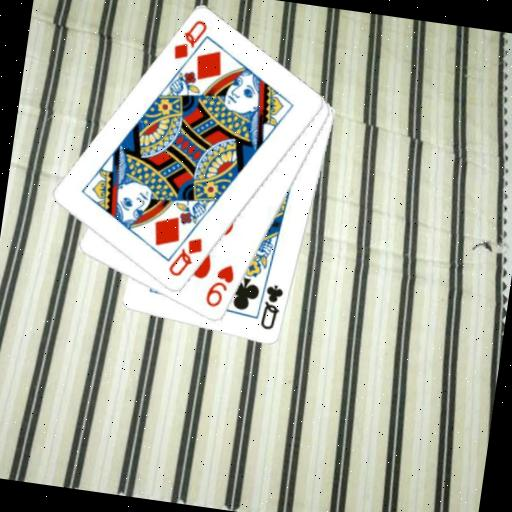9H: (202, 259, 238, 311)
QC: (257, 280, 287, 333)
QD: (169, 14, 211, 66), (165, 232, 206, 282)
